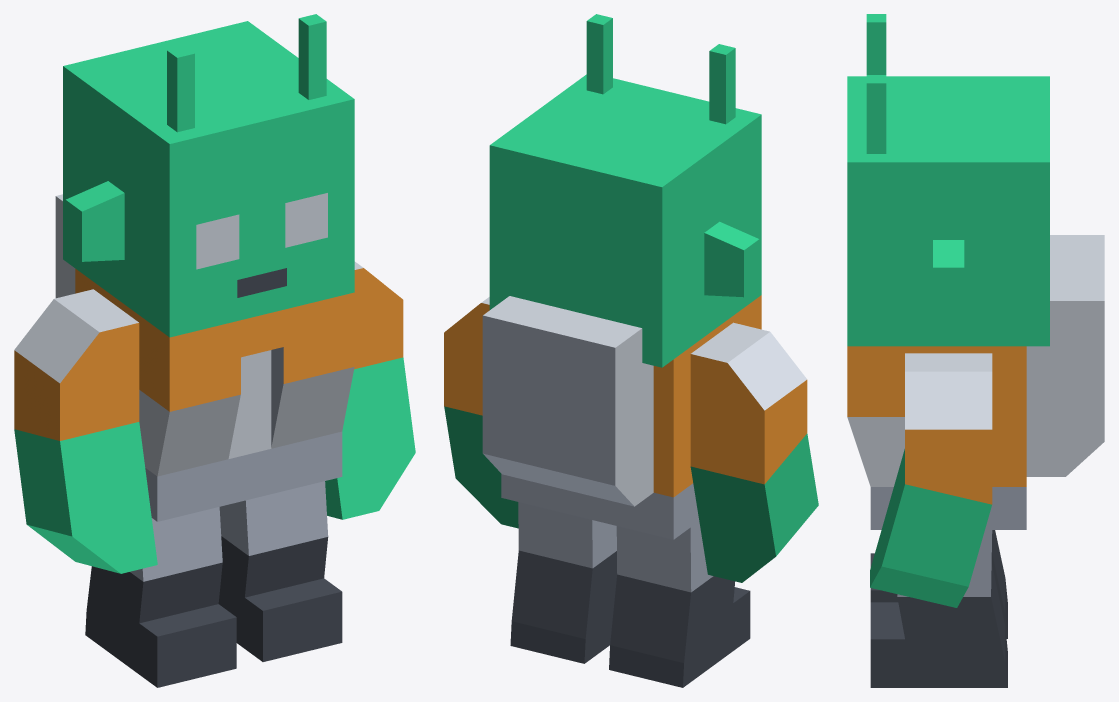
The model's file is alien.glb.
3 renders of one model, left to right at view 1: azimuth 30°, elevation 25°; view 2: azimuth 150°, elevation 25°; view 3: azimuth 270°, elevation 25°, orthographic. The views are drawn at different scales.
Parts seen in each view (by area): view 1: head, body, armRight, legRight, legLeft, armLeft; view 2: head, body, armRight, legRight, legLeft, armLeft; view 3: head, body, armLeft, legLeft, legRight.
Boxes of the visible parts, left/top/right/bottom form: head: left=63, top=14, right=354, bottom=337; body: left=55, top=194, right=354, bottom=521; armRight: left=14, top=289, right=157, bottom=573; legRight: left=85, top=507, right=236, bottom=687; legLeft: left=218, top=481, right=342, bottom=661; armLeft: left=325, top=261, right=415, bottom=519; head: left=489, top=14, right=761, bottom=367; body: left=482, top=295, right=761, bottom=539; armRight: left=690, top=322, right=818, bottom=582; legRight: left=609, top=521, right=750, bottom=687; legLeft: left=510, top=502, right=617, bottom=663; armLeft: left=444, top=297, right=518, bottom=528; head: left=847, top=14, right=1049, bottom=346; body: left=847, top=235, right=1104, bottom=529; armLeft: left=870, top=353, right=992, bottom=607; legLeft: left=870, top=530, right=1007, bottom=687; legRight: left=870, top=530, right=1007, bottom=638.
Bounding box in the file's own units: 0.4832 × 0.8432 × 0.33.
